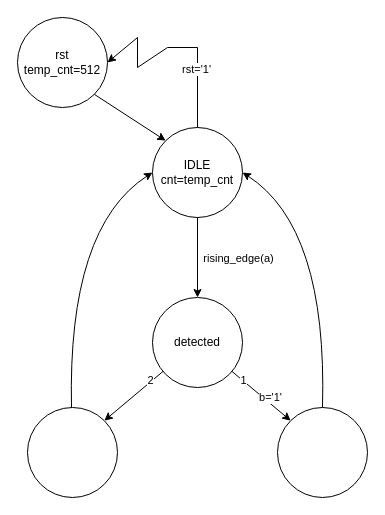
Image size: 385x515. Some labels were removed from this diagram. The centre of each missing label's shape, as x and y in pixels:
"cnt_down temp_cnt--" goes at point (322, 452).
"cnt_up temp_cnt++" goes at point (72, 452).
